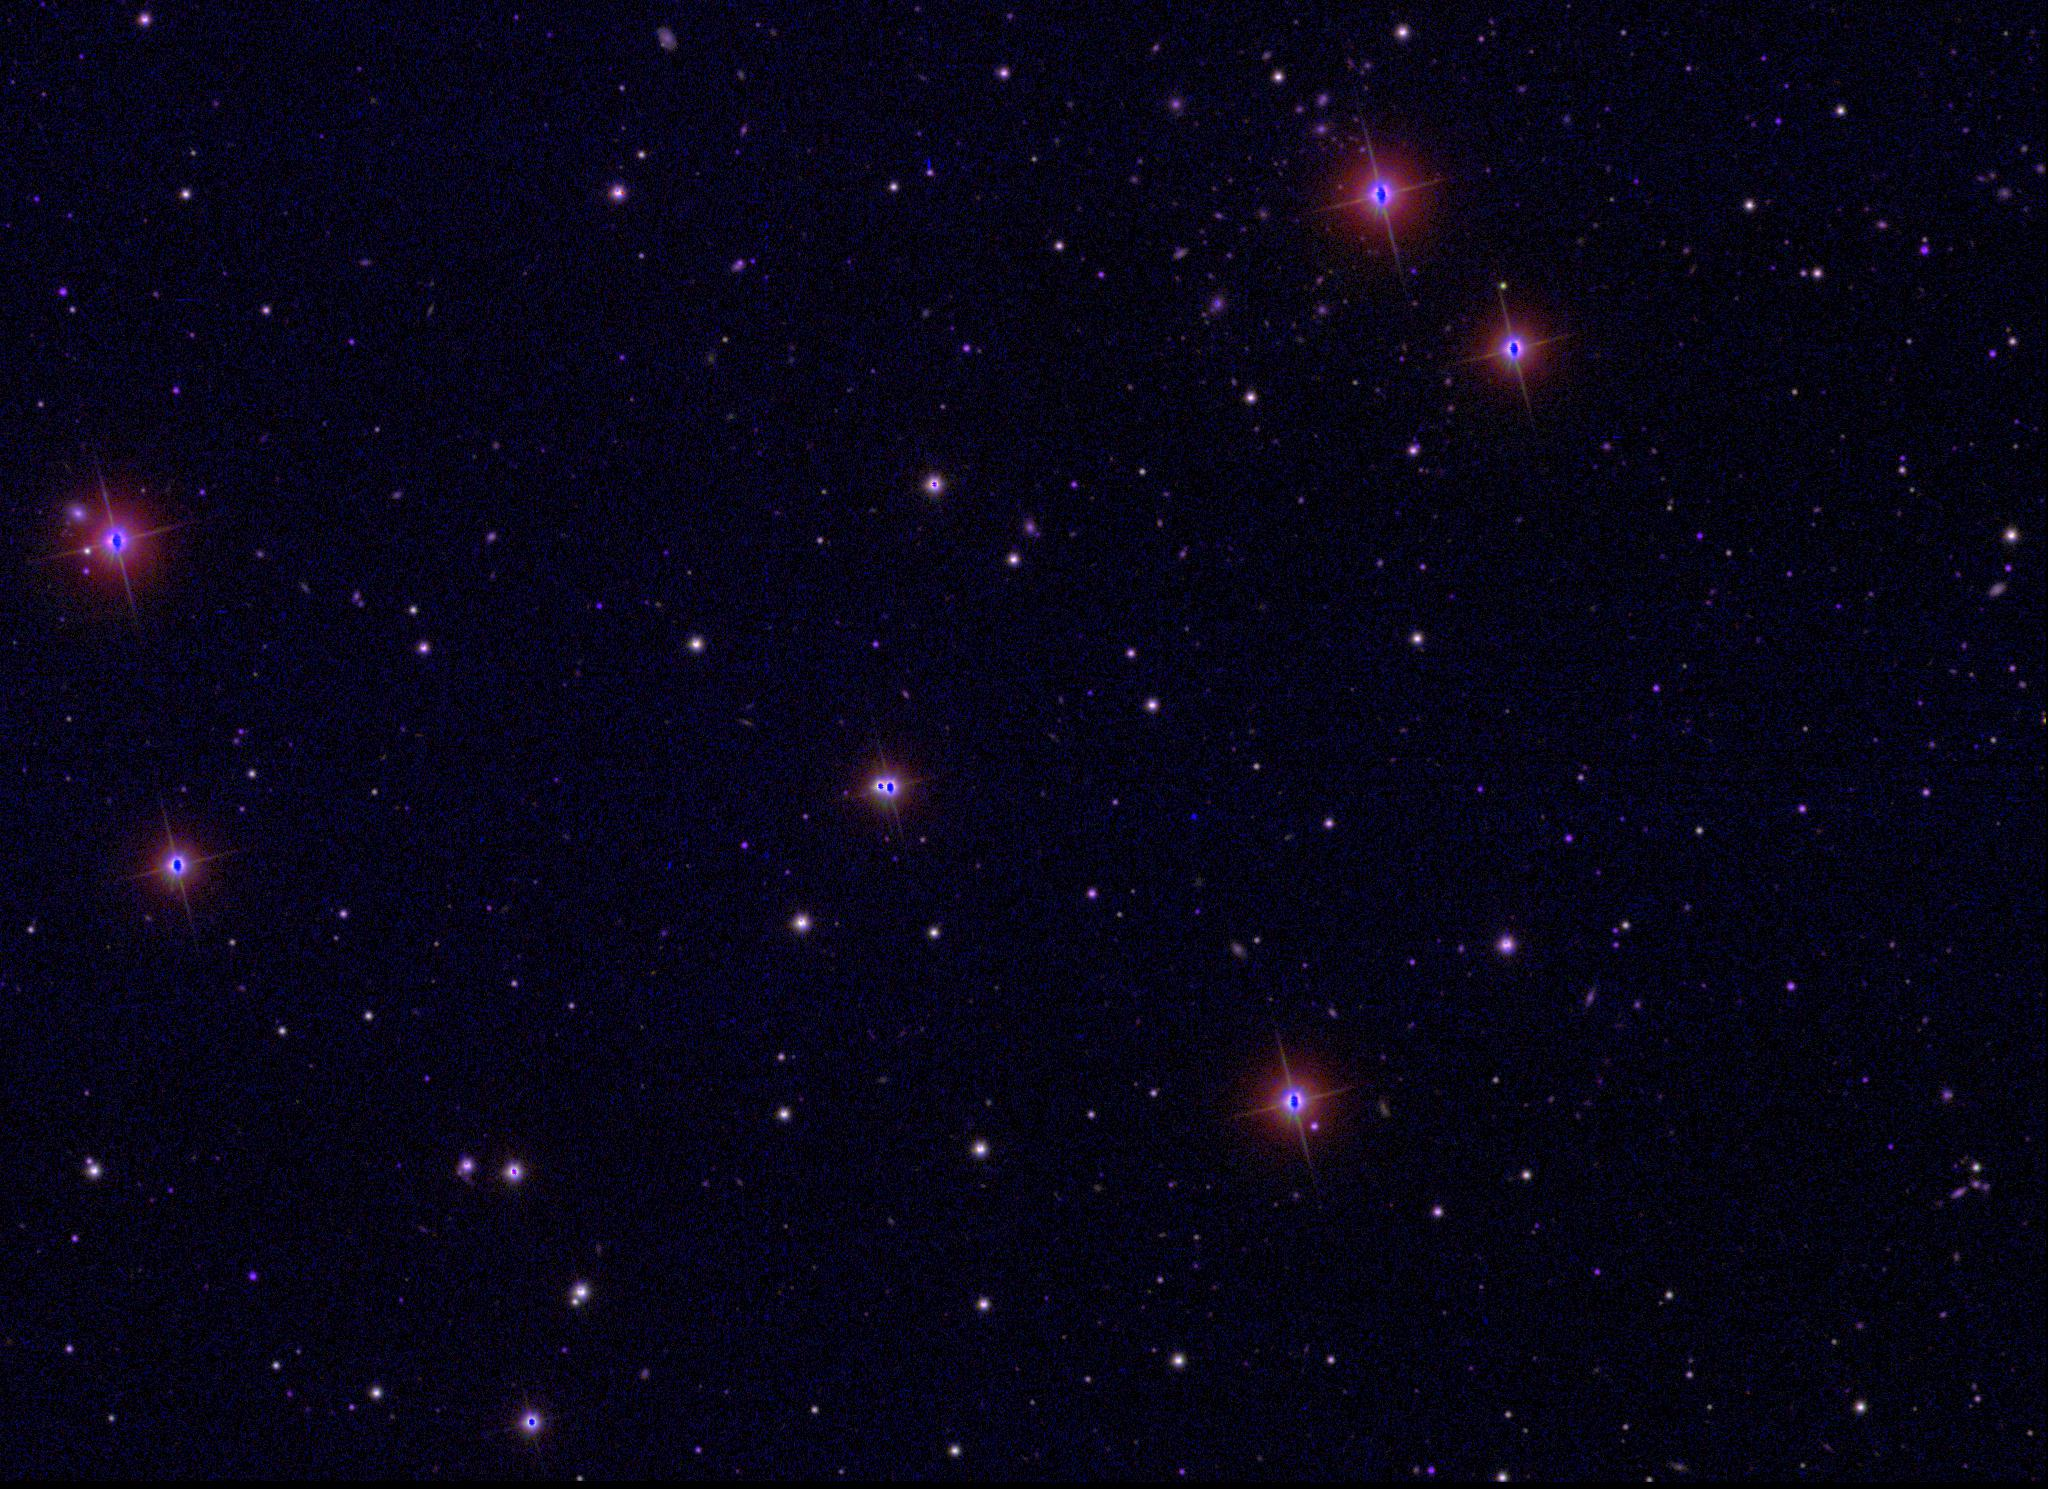L: (1188, 810, 1200, 824)
